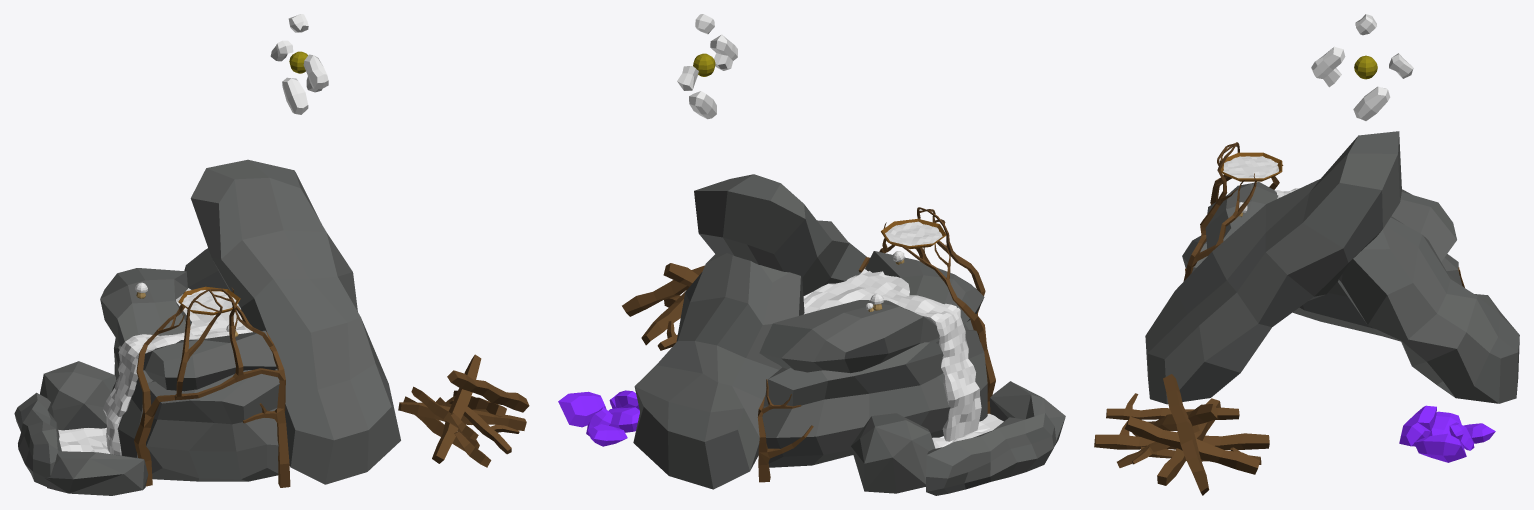
Rendered from storageWATER.fbx.
3 views of the same model, side by side, from view 1: azimuth 30°, elevation 25°; view 2: azimuth 150°, elevation 25°; view 3: azimuth 270°, elevation 25° (orthographic). The views are drawn at different scales.
Visible parts, largest first — view 1: cave, root.002, Plane, stone003.002, stone002, cave.001, stick.002, stick.001, stick.007, stick.005, stick.006, stick (+3 smaller); view 2: cave, Plane, cave.001, stone003.002, root.002, stone002, root, amber, stick.002, water1, stick.003, flying_stone.003 (+3 smaller); view 3: cave, stick.003, root.002, stick.005, stick.002, amber, stick, water1, amber.001, stick.007, flying_stone.003, stick.001 (+4 smaller).
Part boxes in pixels (x1,y1,x2,y2): cave: [100, 159, 400, 484]; root.002: [134, 287, 290, 487]; Plane: [58, 288, 252, 455]; stone003.002: [40, 361, 116, 430]; stone002: [44, 451, 148, 495]; cave.001: [14, 392, 61, 486]; stick.002: [447, 370, 529, 412]; stick.001: [432, 354, 481, 463]; stick.007: [398, 402, 526, 430]; stick.005: [403, 396, 491, 467]; stick.006: [452, 399, 519, 454]; stick: [411, 386, 478, 440]; cave: [633, 174, 987, 489]; Plane: [803, 269, 1003, 448]; cave.001: [926, 413, 1055, 495]; stone003.002: [851, 413, 935, 493]; root.002: [858, 207, 995, 413]; stone002: [989, 381, 1065, 445]; root: [757, 379, 813, 482]; amber: [558, 391, 606, 427]; stick.002: [622, 265, 704, 316]; water1: [885, 221, 942, 245]; stick.003: [641, 290, 686, 345]; flying_stone.003: [710, 34, 737, 70]; cave: [1145, 131, 1519, 404]; stick.003: [1124, 416, 1259, 474]; root.002: [1183, 142, 1283, 280]; stick.005: [1094, 421, 1269, 449]; stick.002: [1163, 374, 1209, 495]; amber: [1414, 433, 1466, 462]; stick: [1106, 393, 1239, 419]; water1: [1223, 156, 1278, 178]; amber.001: [1399, 405, 1436, 446]; stick.007: [1157, 398, 1220, 485]; flying_stone.003: [1311, 46, 1345, 87]; stick.001: [1132, 404, 1217, 436].
Bounding box in the file's own units: 1588 × 1280 × 1215.
